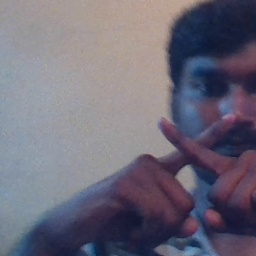X: (136, 103, 253, 227)
